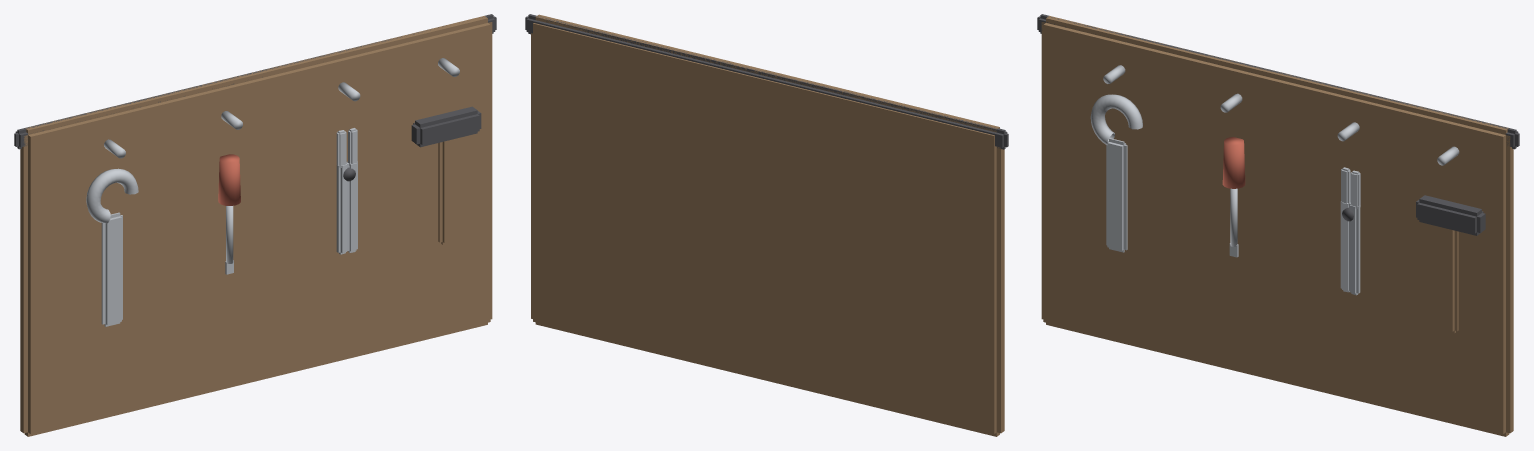
File: tool_rack.glb
3 renders of one model, left to right at view 1: azimuth 30°, elevation 25°; view 2: azimuth 150°, elevation 25°; view 3: azimuth 330°, elevation 25°, orthographic.
Visible parts, largest first — view 1: Board, WrenchHandle, HammerHead, HammerHandle, WrenchHead, DriverGrip, BoardTrim, PlierLegA, PlierLegB, DriverShaft; view 2: Board, BoardTrim; view 3: Board, WrenchHandle, HammerHead, HammerHandle, WrenchHead, BoardTrim, DriverGrip, PlierLegB, PlierLegA, DriverShaft.
Part boxes in pixels (x1,y1,x2,y2): Board: (20, 16, 492, 436); WrenchHandle: (101, 212, 122, 326); HammerHead: (411, 106, 481, 147); HammerHandle: (438, 139, 454, 244); WrenchHead: (86, 168, 138, 223); DriverGrip: (218, 154, 240, 205); BoardTrim: (14, 14, 496, 149); PlierLegA: (336, 162, 347, 254); PlierLegB: (346, 161, 357, 252); DriverShaft: (226, 206, 233, 263); Board: (531, 14, 1004, 436); BoardTrim: (525, 14, 1008, 149); Board: (1041, 16, 1513, 436); WrenchHandle: (1106, 138, 1127, 252); HammerHead: (1416, 195, 1485, 235); HammerHandle: (1442, 228, 1458, 333); WrenchHead: (1090, 94, 1142, 144); BoardTrim: (1037, 14, 1519, 149); DriverGrip: (1222, 137, 1245, 188); PlierLegB: (1349, 203, 1360, 295); PlierLegA: (1340, 201, 1350, 292); DriverShaft: (1230, 188, 1237, 246).
Bounding box in the file's own units: 1.64 × 1 × 0.13.
